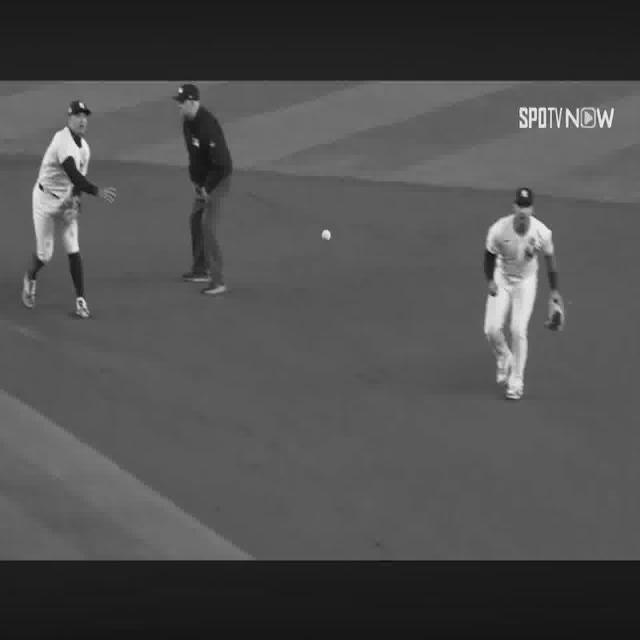baseball: (322, 230, 332, 242)
baseball_glove: (545, 292, 566, 332), (62, 197, 80, 224)
shoe: (496, 349, 513, 382), (22, 273, 36, 308), (181, 267, 208, 282), (202, 282, 226, 297), (75, 297, 91, 318), (508, 378, 524, 398)
